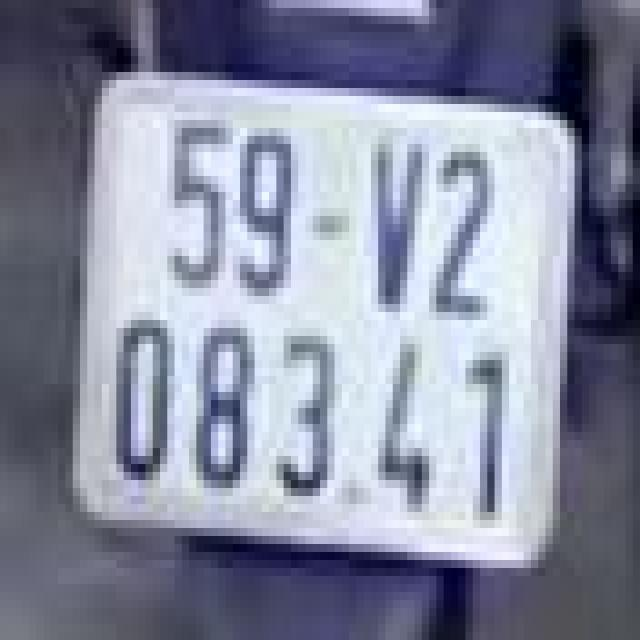0: (105, 308, 171, 492)
1: (458, 332, 516, 532)
2: (429, 128, 502, 320)
3: (269, 332, 342, 508)
4: (371, 332, 444, 532)
5: (164, 108, 229, 284)
8: (189, 316, 262, 492)
9: (233, 120, 298, 304)
V: (353, 116, 425, 308)
